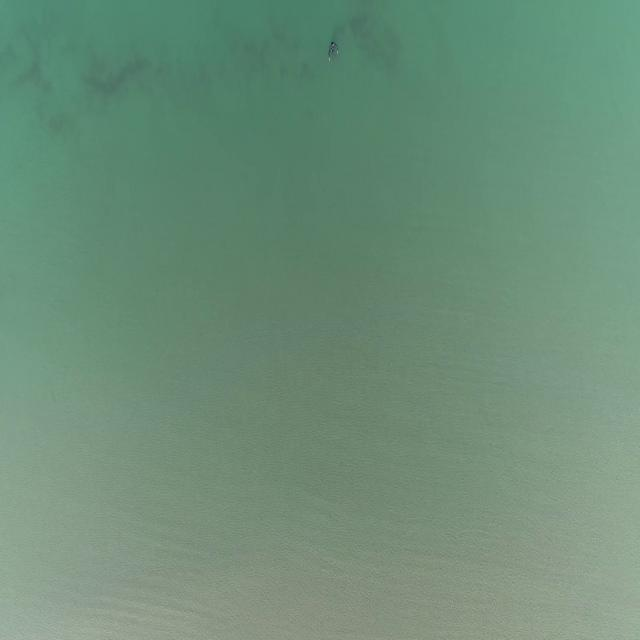person: (327, 41, 340, 60)
